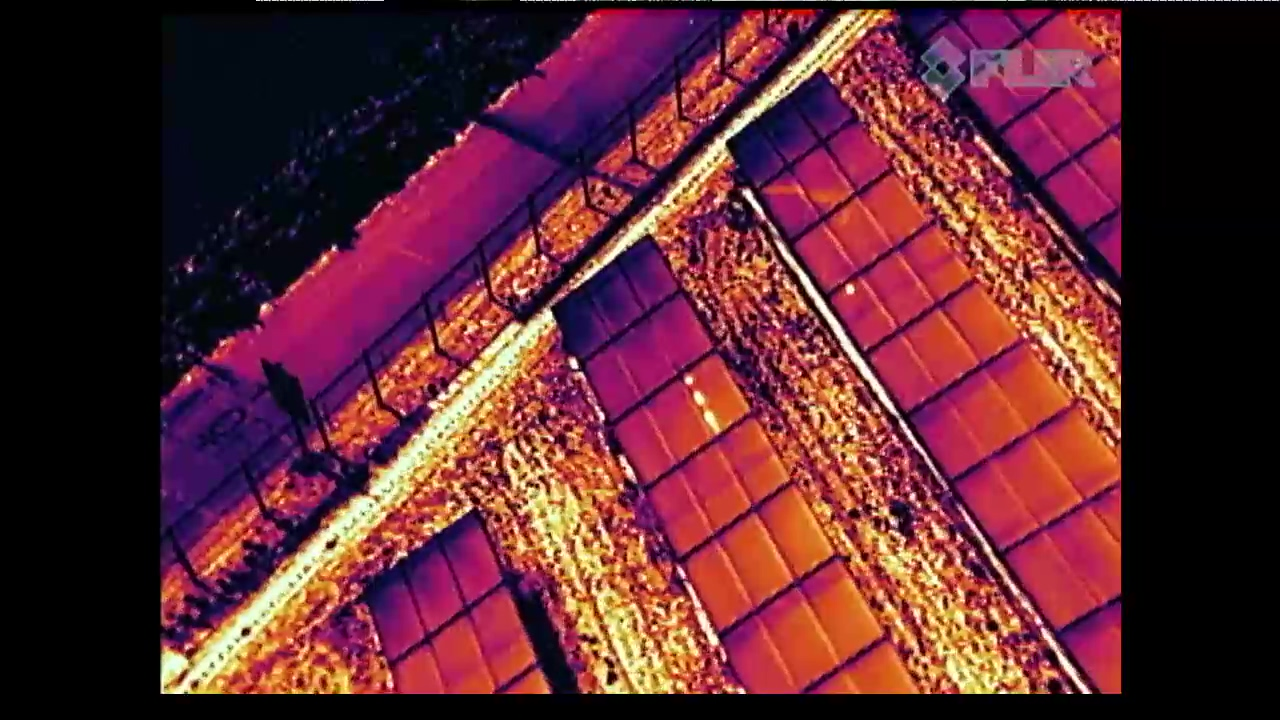hotspot: (604, 355, 755, 483), (814, 226, 979, 342)
